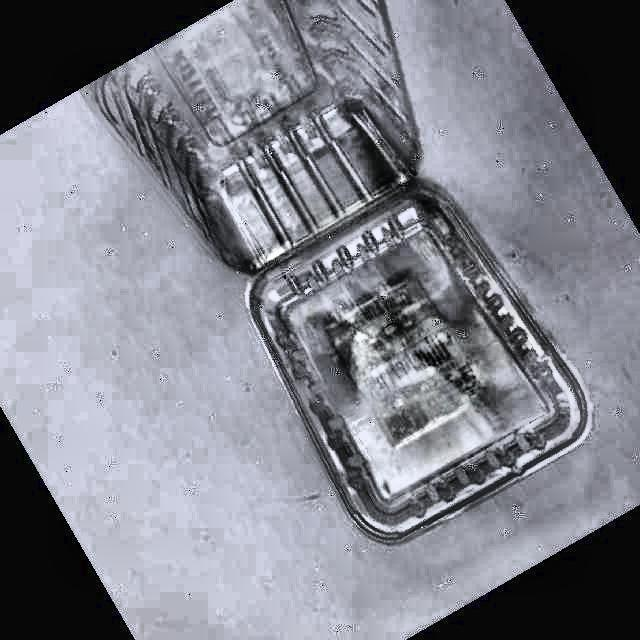plastic: (86, 1, 585, 539)
